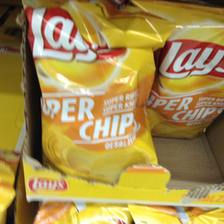chips: (25, 5, 162, 184), (139, 2, 224, 137)
